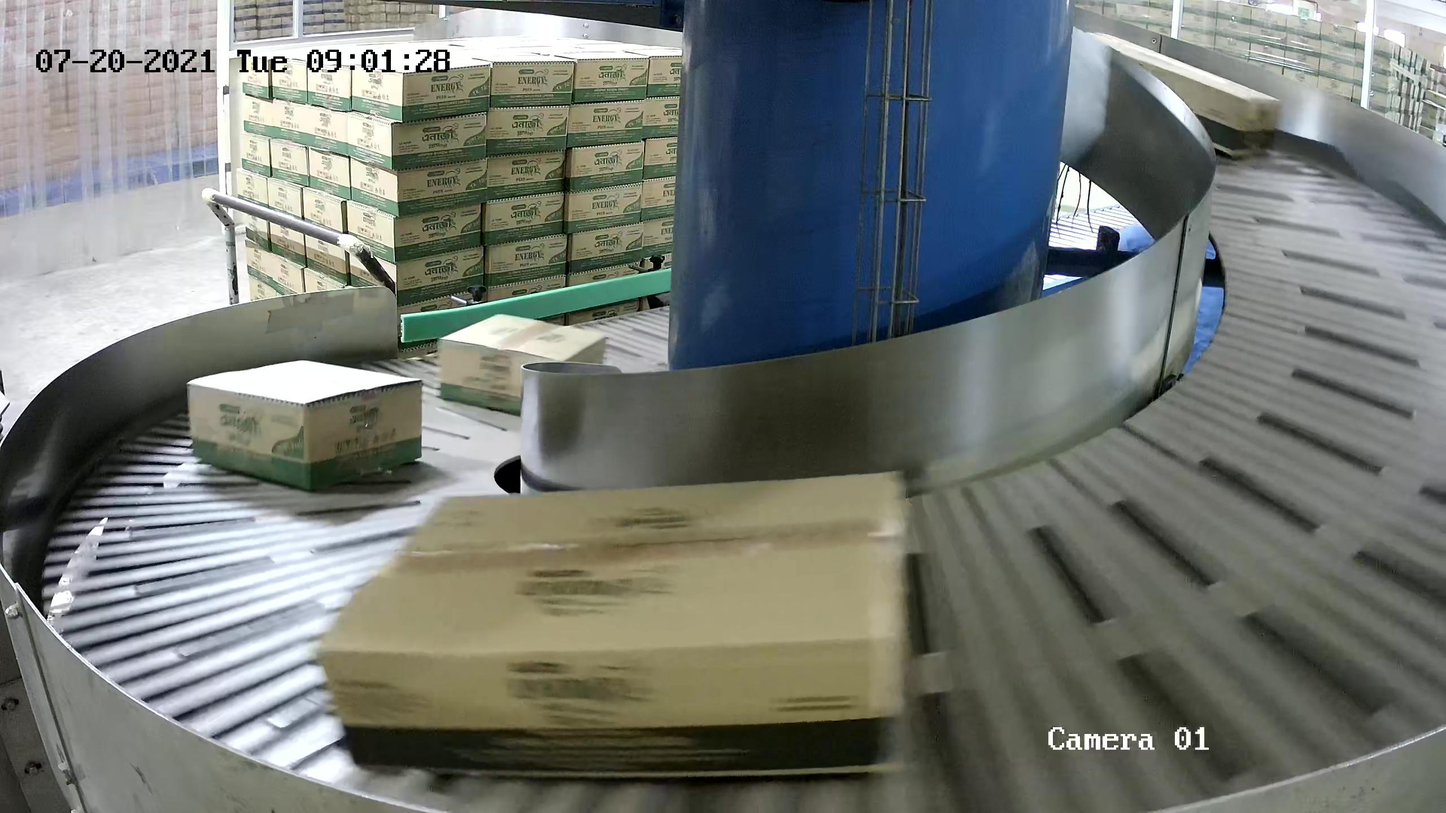Box: (314, 470, 916, 782), (187, 359, 425, 494), (1067, 29, 1285, 161), (438, 314, 610, 417)
